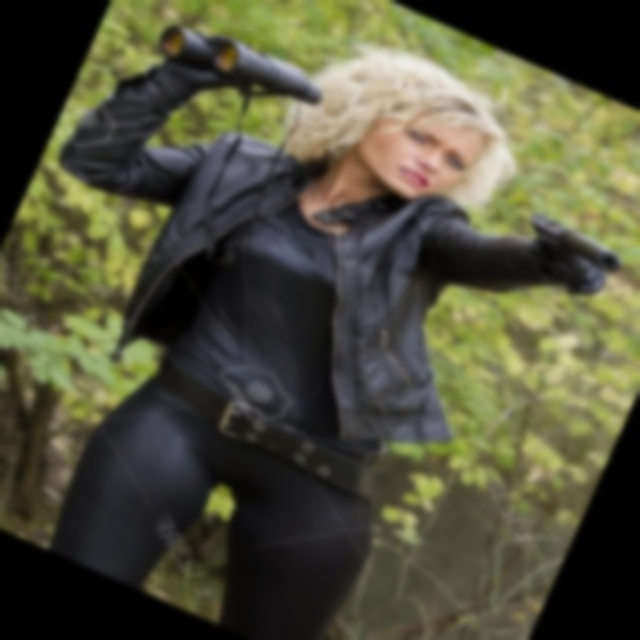gun: (484, 181, 640, 329)
